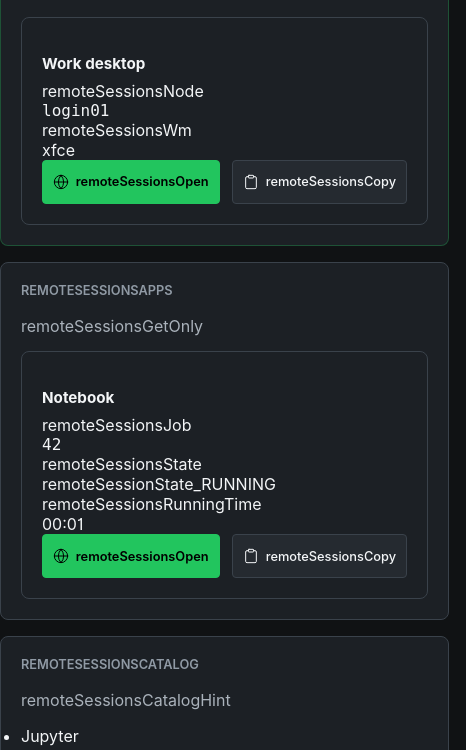
Remote sessions › unknown upstream messages are never rendered and unsupported POST responses stay unsupported
(page scrolled)
Click the button with aria-label "remoteSessionsOpen — Notebook".
click(131, 556)  # box [42, 534, 220, 578]
(page scrolled)
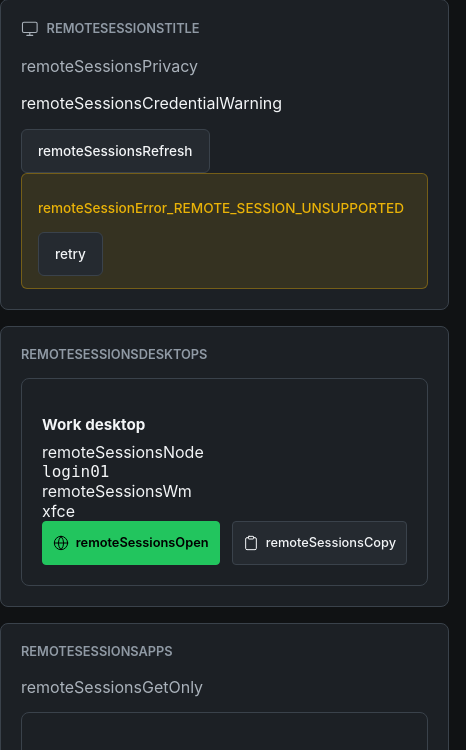
Result: the message shows "remoteSessionError_REMOTE_SESSION_UNSUPPORTED" at [38, 200, 404, 216]
Click the button "retry".
click(70, 254)  # box [38, 232, 103, 276]
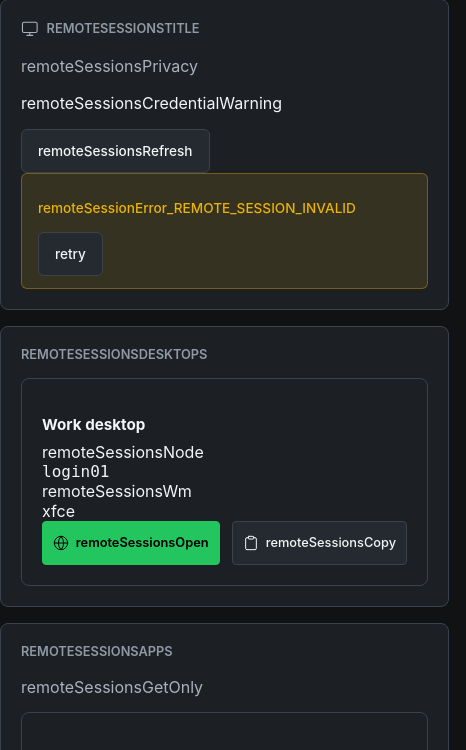
Result: the message shows "remoteSessionError_REMOTE_SESSION_INVALID" at [38, 200, 356, 216]
